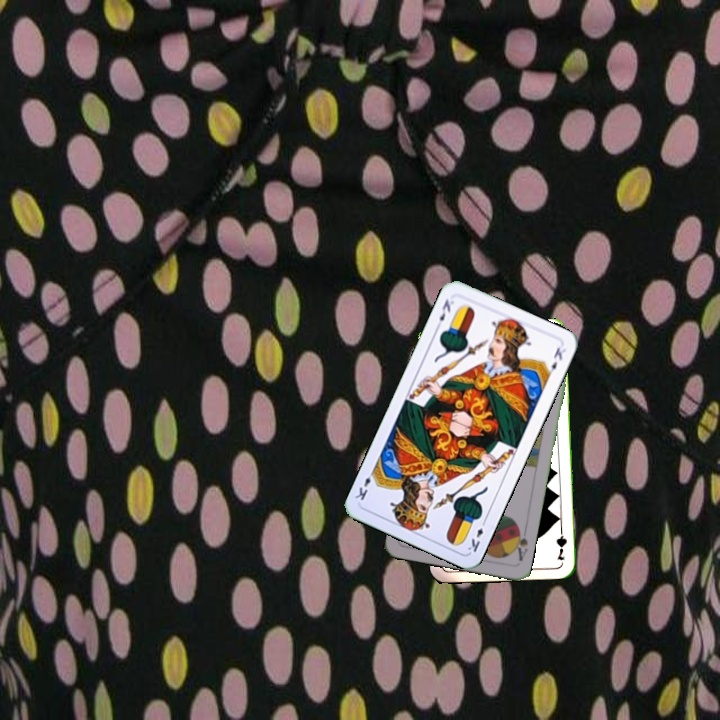EK: (463, 516, 489, 555), (432, 295, 456, 332)
G7: (552, 522, 569, 563)
SA: (509, 523, 530, 563)
